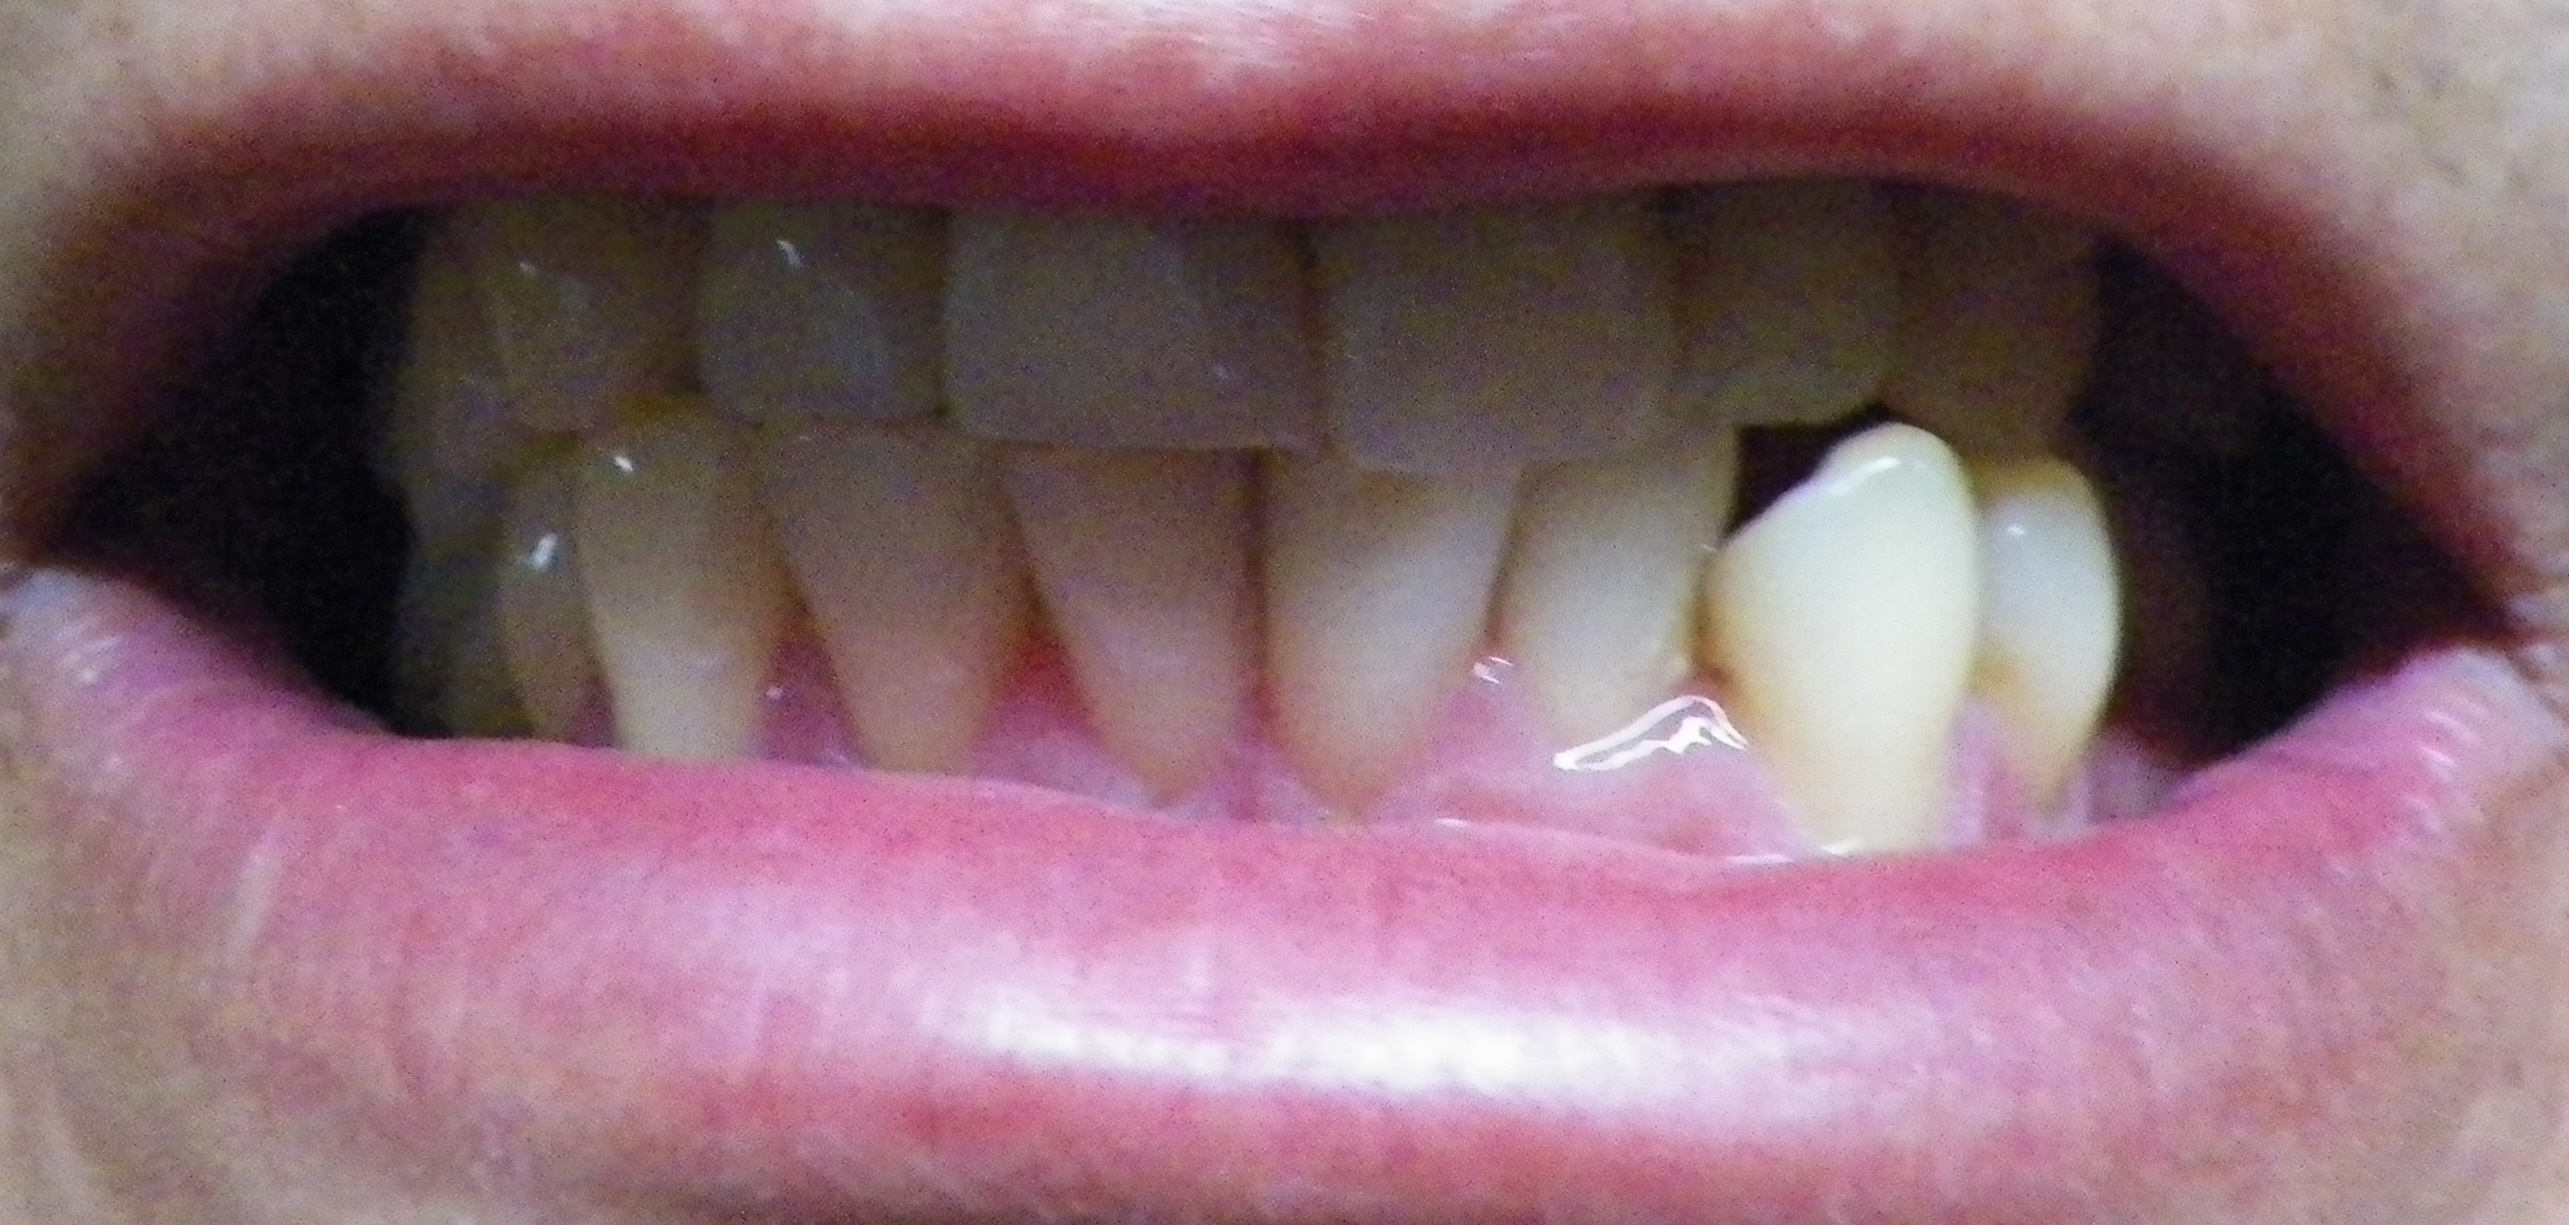boca: (378, 172, 2145, 771)
